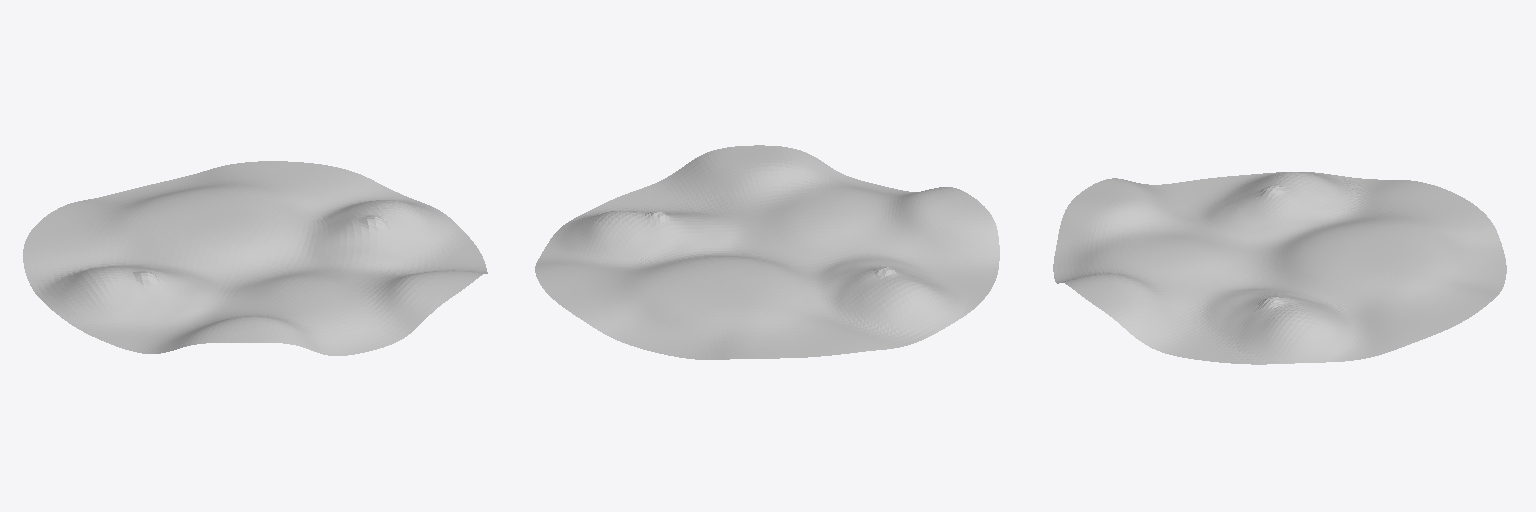
Rendered from bumpyArena2.obj.
3 renders of one model, left to right at view 1: azimuth 30°, elevation 25°; view 2: azimuth 150°, elevation 25°; view 3: azimuth 270°, elevation 25°, orthographic.
Parts seen in each view (by area): view 1: Plane; view 2: Plane; view 3: Plane.
Boxes of the visible parts, x1,y1,x2,y2 form: Plane: [23, 161, 487, 355]; Plane: [535, 145, 999, 359]; Plane: [1053, 172, 1506, 364].
Size of the model in its own units: 14.92 by 1.01 by 14.89.